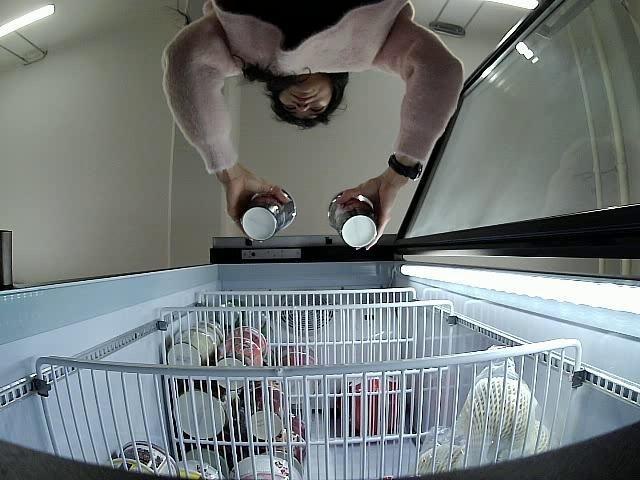08_buldak_S: (327, 190, 378, 248), (242, 188, 296, 241)
